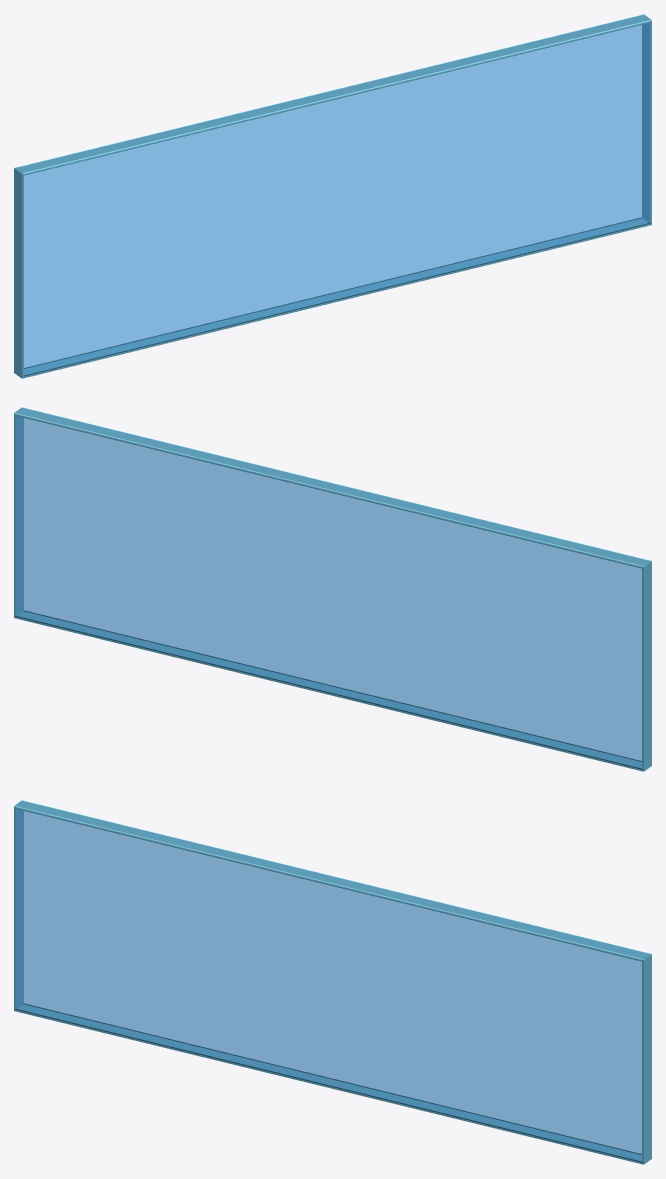
Rendered from SM_VR_Wall_EastGridBack.fbx.
3 renders of one model, top to bottom at view 1: azimuth 30°, elevation 25°; view 2: azimuth 150°, elevation 25°; view 3: azimuth 330°, elevation 25°, orthographic.
Parts seen in each view (by area): view 1: SM_VR_Wall_EastGridBack; view 2: SM_VR_Wall_EastGridBack; view 3: SM_VR_Wall_EastGridBack.
Boxes of the visible parts, left/top/right/bottom form: SM_VR_Wall_EastGridBack: left=14, top=14, right=651, bottom=378; SM_VR_Wall_EastGridBack: left=14, top=407, right=651, bottom=771; SM_VR_Wall_EastGridBack: left=14, top=800, right=651, bottom=1164.
Size of the model in its own units: 900 by 20 by 280.
